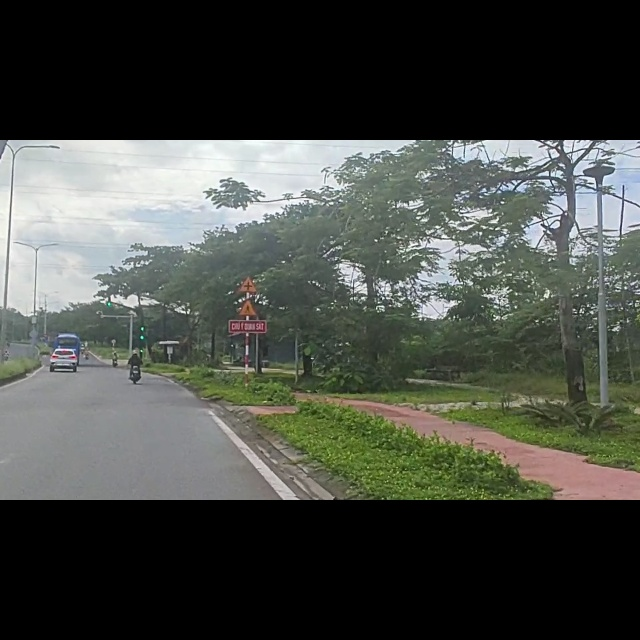bien_nguy_hiem: (236, 281, 263, 314), (237, 241, 259, 273)
